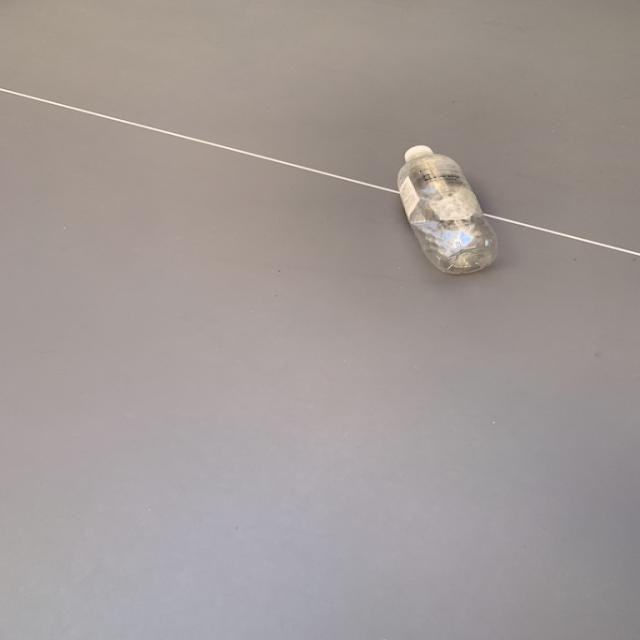Plastic: (398, 145, 498, 274)
